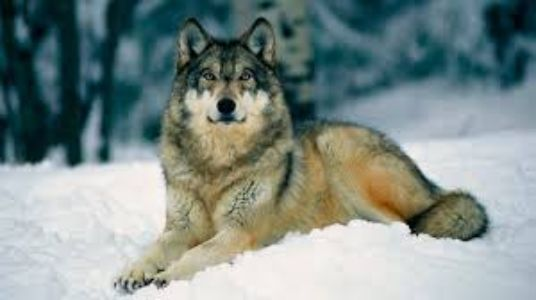wolf: (136, 12, 474, 259)
